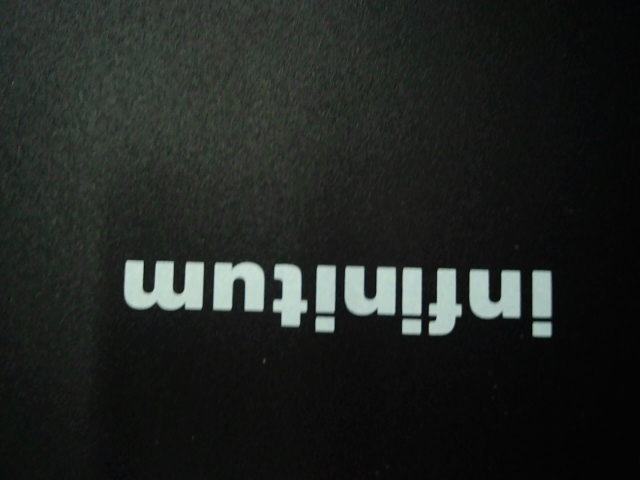BK_infinitum: (125, 240, 563, 350)
